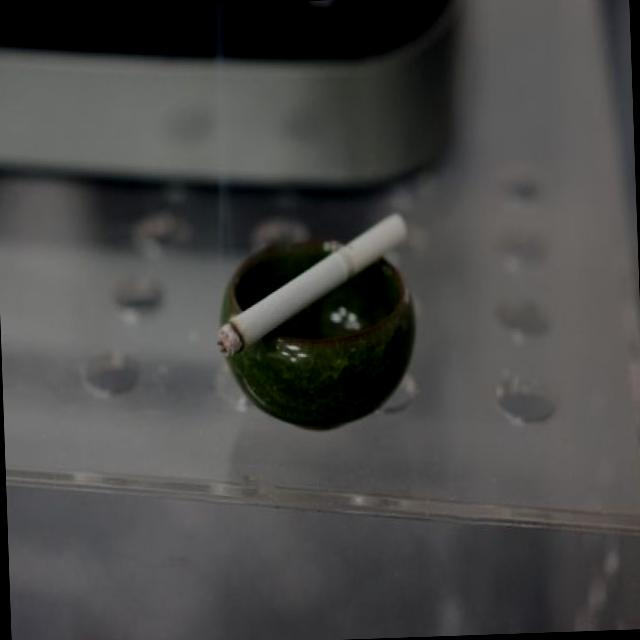smoke: (211, 207, 416, 357)
